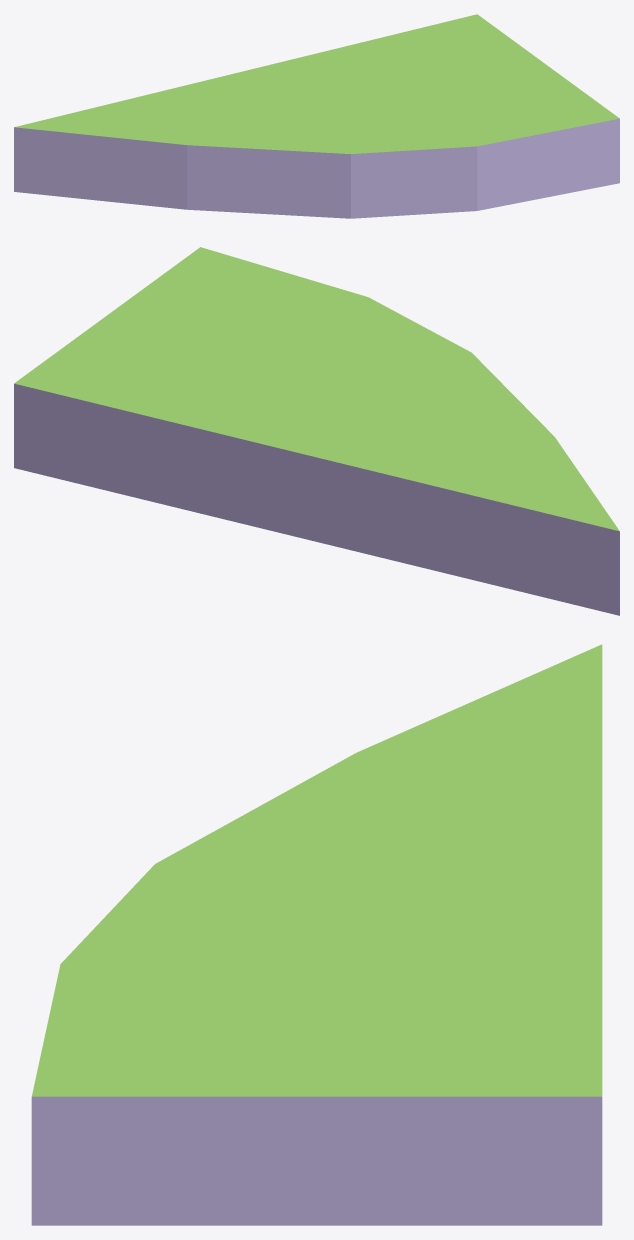
File: Tiered_Grass_45_Degrees_Curve_Inner_Outside_1x2.glb
The picture shows the model from 3 angles, top to bottom: view 1: azimuth 30°, elevation 25°; view 2: azimuth 150°, elevation 25°; view 3: azimuth 270°, elevation 25°; orthographic projection. The views are drawn at different scales.
Visible parts, largest first — view 1: Tiered_Grass_45_Degrees_Curve_Inner_Outside_1x2; view 2: Tiered_Grass_45_Degrees_Curve_Inner_Outside_1x2; view 3: Tiered_Grass_45_Degrees_Curve_Inner_Outside_1x2.
Boxes of the visible parts, x1,y1,x2,y2 form: Tiered_Grass_45_Degrees_Curve_Inner_Outside_1x2: [14, 14, 619, 218]; Tiered_Grass_45_Degrees_Curve_Inner_Outside_1x2: [14, 247, 619, 615]; Tiered_Grass_45_Degrees_Curve_Inner_Outside_1x2: [31, 644, 602, 1225].
Size of the model in its own units: 188 by 25 by 100.
